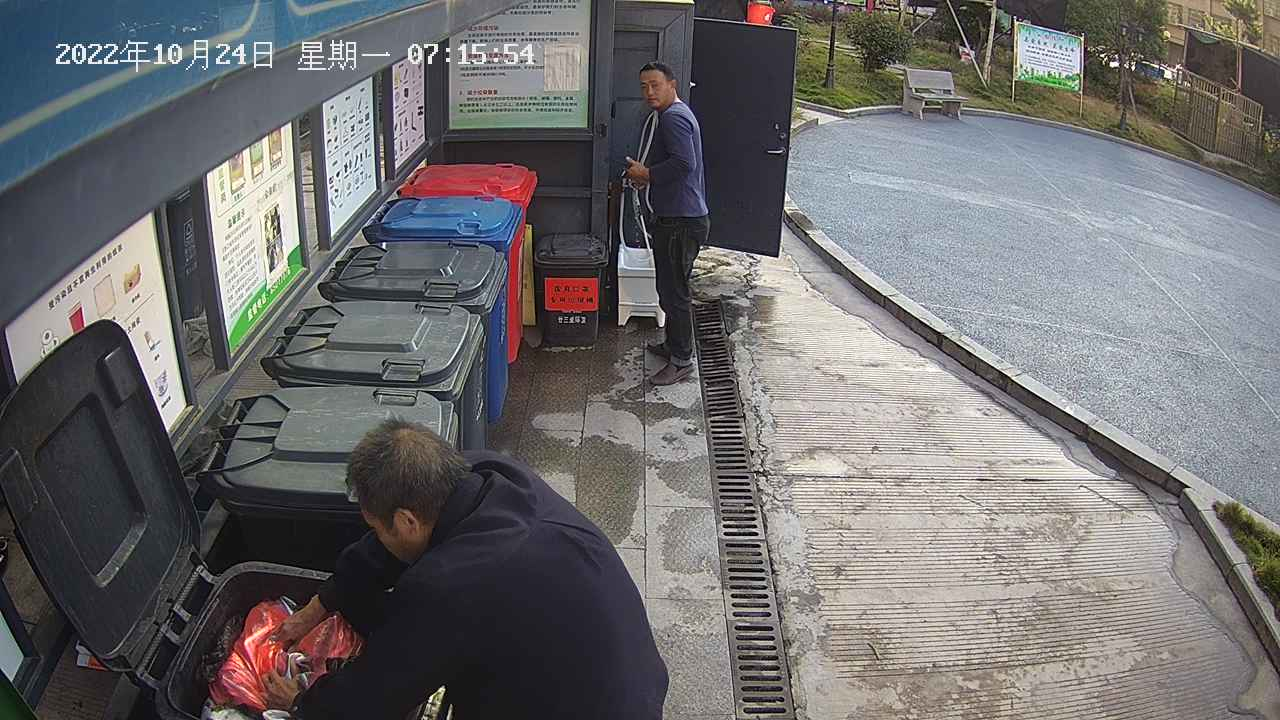person: (258, 412, 676, 720), (619, 56, 717, 388)
